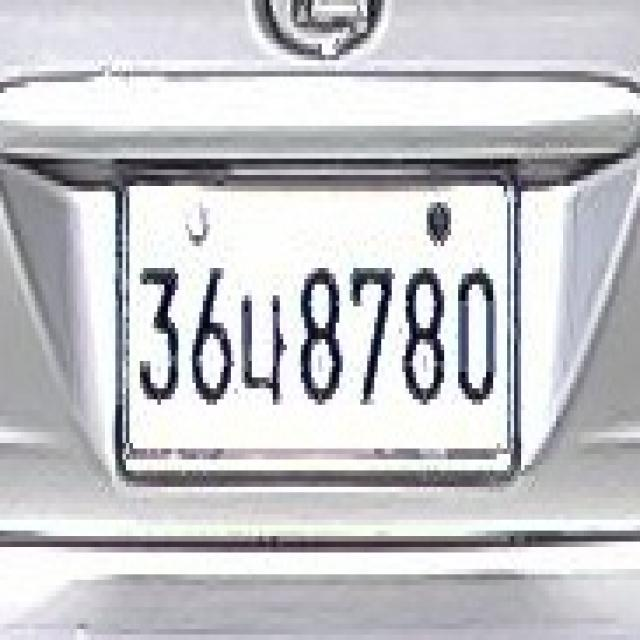0: (455, 263, 500, 410)
3: (140, 262, 185, 404)
6: (189, 268, 234, 410)
7: (346, 257, 392, 405)
8: (398, 263, 448, 410), (297, 263, 346, 410)
license_plate: (112, 164, 521, 471)
na: (238, 284, 287, 416)
